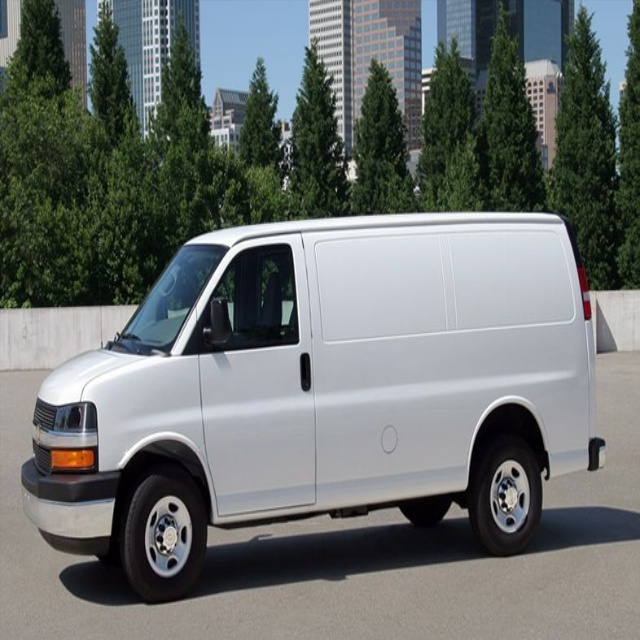Van: (20, 211, 605, 604)
